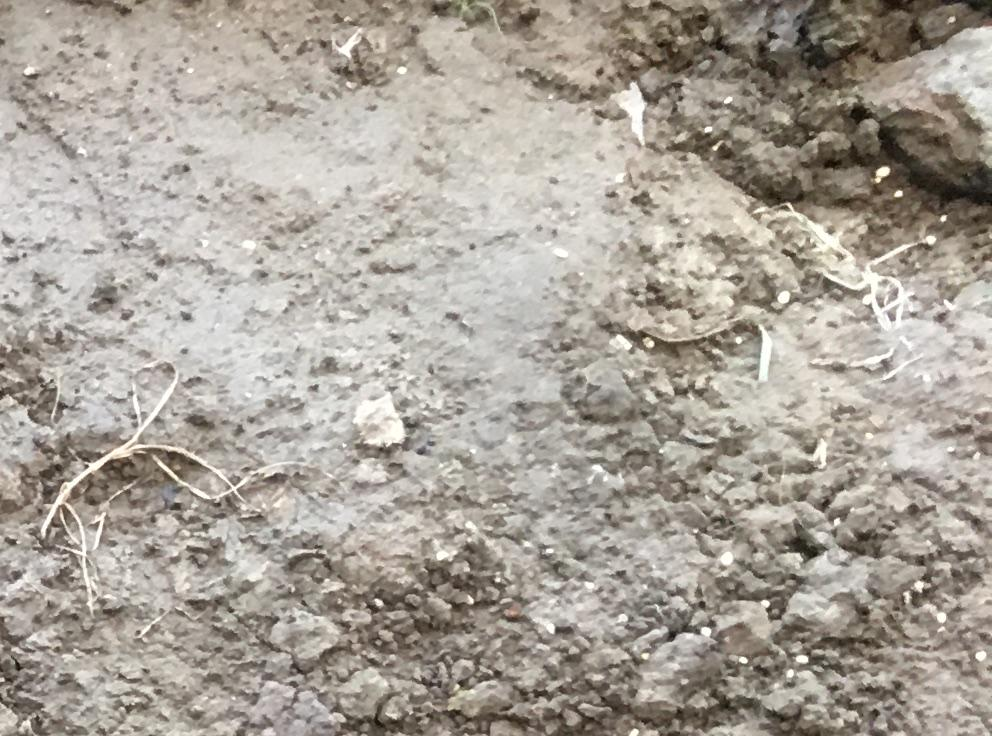block: (857, 25, 992, 194)
